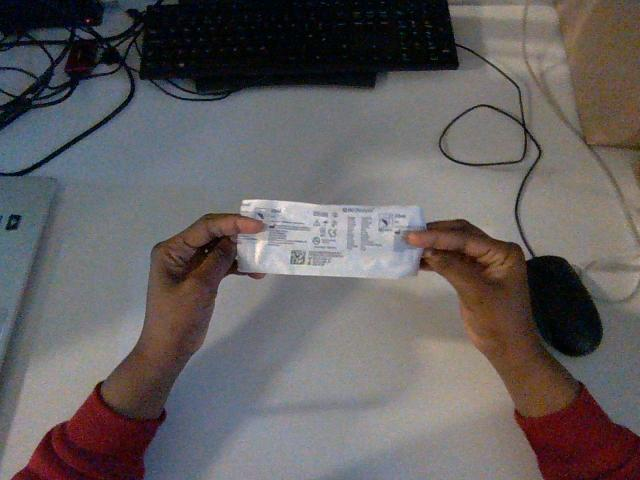syringe: (237, 200, 424, 278)
